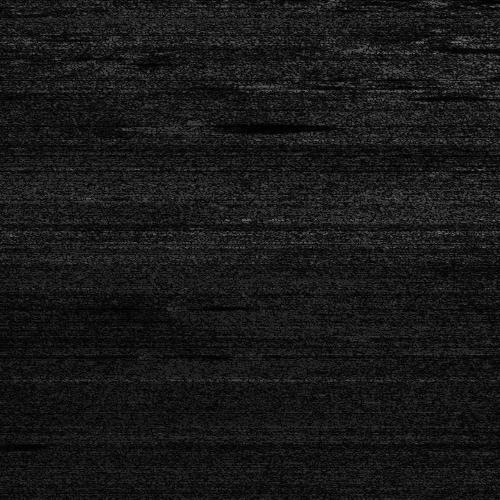object: (127, 120, 232, 131), (361, 45, 454, 52), (359, 93, 422, 98), (245, 81, 298, 86), (148, 303, 201, 306), (0, 442, 16, 447)
shadow: (180, 120, 283, 131), (408, 45, 492, 52), (391, 93, 495, 98), (175, 303, 242, 306), (0, 442, 39, 447), (271, 81, 309, 86)
